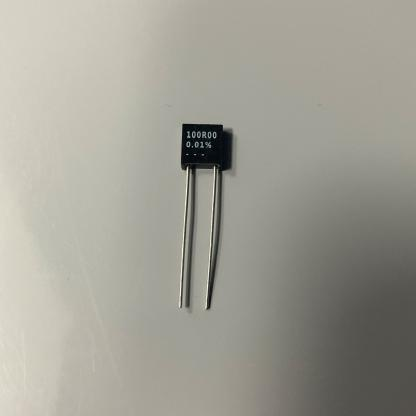SP0000007: (135, 56, 303, 362)
